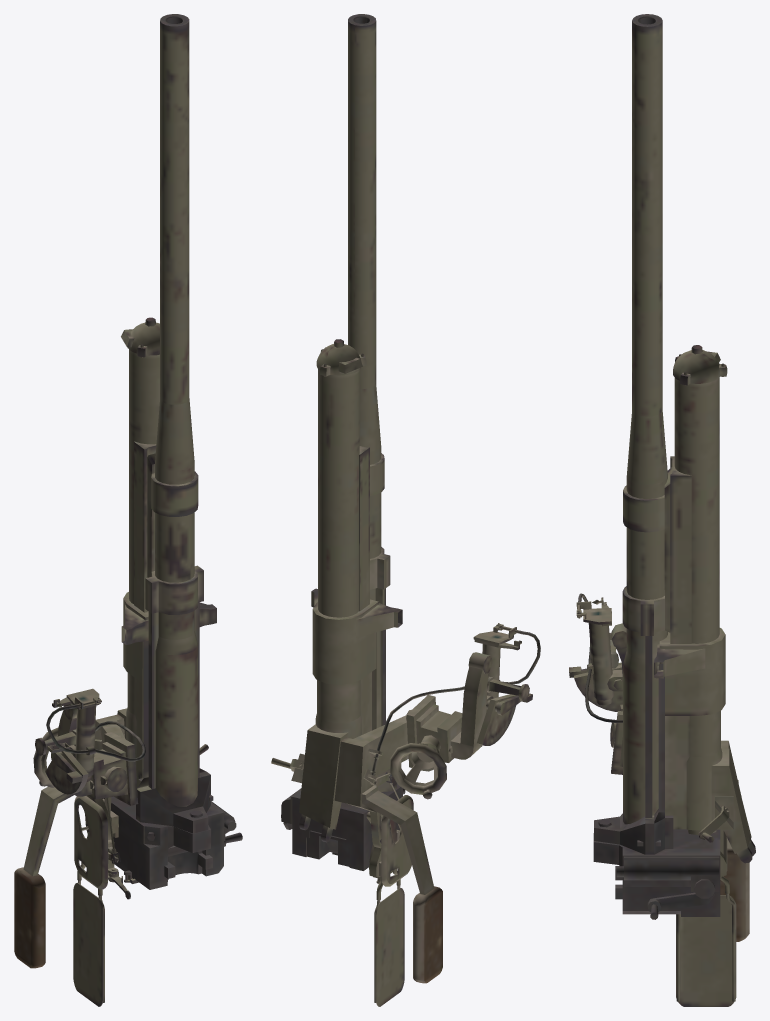
The model's file is Gun_01.glb.
The picture shows the model from 3 angles, left to right: view 1: azimuth 30°, elevation 25°; view 2: azimuth 150°, elevation 25°; view 3: azimuth 270°, elevation 25°; orthographic projection. The views are drawn at different scales.
Visible parts, largest first — view 1: set_0_group_0; view 2: set_0_group_0; view 3: set_0_group_0.
Boxes of the visible parts, <box> form: set_0_group_0: <box>14,14,242,1006</box>; set_0_group_0: <box>271,14,540,1006</box>; set_0_group_0: <box>569,14,755,1006</box>.
Size of the model in its own units: 0.6222 by 2.59 by 0.4321.
Materials: 1 (1 with a texture image).
